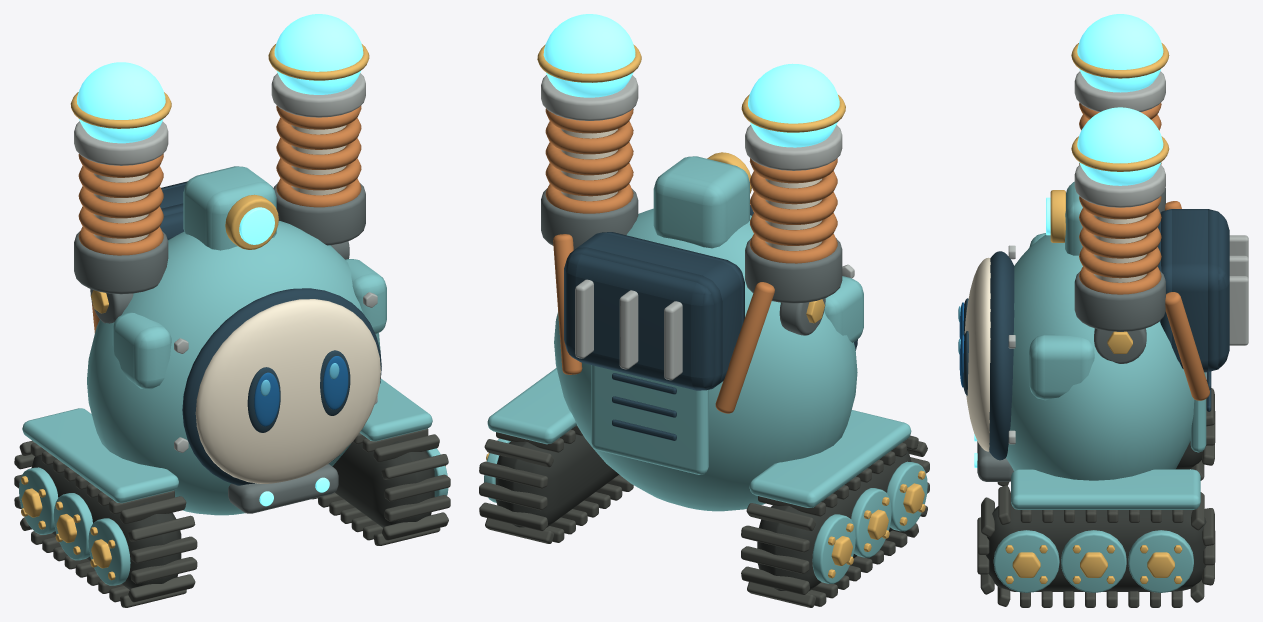
The model's file is robot-volt.glb.
3 views of the same model, side by side, from view 1: azimuth 30°, elevation 25°; view 2: azimuth 150°, elevation 25°; view 3: azimuth 270°, elevation 25° (orthographic). The views are drawn at different scales.
Parts seen in each view (by area): view 1: volt_Volt seafoam enamel, volt_Warm ivory, volt_Copper windings, volt_Electric ceramic, volt_Gunmetal, volt_chassis_Volt seafoam enamel, volt_chassis_Rubber, volt_Midnight blue, volt_Brushed steel, volt_Brass details, wheel_R_0, wheel_R_1 (+12 smaller); view 2: volt_Volt seafoam enamel, volt_Midnight blue, volt_Copper windings, volt_Electric ceramic, volt_chassis_Volt seafoam enamel, volt_Brushed steel, volt_chassis_Rubber, volt_Gunmetal, volt_Brass details, wheel_R_2, wheel_R_1, wheel_R_0 (+11 smaller); view 3: volt_Volt seafoam enamel, volt_Midnight blue, volt_Electric ceramic, volt_Copper windings, volt_Brushed steel, volt_chassis_Volt seafoam enamel, volt_chassis_Rubber, volt_Gunmetal, volt_Warm ivory, volt_Brass details, wheel_L_0, wheel_L_1 (+4 smaller).
Part boxes in pixels (x1,y1,x2,y2): volt_Volt seafoam enamel: (87,166,386,515); volt_Warm ivory: (93,125,380,483); volt_Copper windings: (78,105,361,333); volt_Electric ceramic: (76,14,363,506); volt_Gunmetal: (74,183,365,513); volt_chassis_Volt seafoam enamel: (22,378,432,503); volt_chassis_Rubber: (31,440,434,589); volt_Midnight blue: (160,181,381,485); volt_Brushed steel: (74,73,377,452); volt_Brass details: (70,44,369,313); wheel_R_0: (88,518,130,585); wheel_R_1: (53,493,92,560); volt_Volt seafoam enamel: (554,156,863,511); volt_Midnight blue: (564,205,857,440); volt_Copper windings: (545,108,837,413); volt_Electric ceramic: (543,14,839,147); volt_chassis_Volt seafoam enamel: (487,368,911,507); volt_Brushed steel: (541,75,854,380); volt_chassis_Rubber: (495,434,911,591); volt_Gunmetal: (541,188,842,335); volt_Brass details: (537,44,845,323); wheel_R_2: (812,514,855,583); wheel_R_1: (851,488,891,557); wheel_R_0: (887,461,927,531); volt_Volt seafoam enamel: (1006,181,1206,480); volt_Midnight blue: (963,209,1229,460); volt_Electric ceramic: (974,14,1163,467); volt_Copper windings: (1079,102,1209,400); volt_Brushed steel: (1008,71,1248,444); volt_chassis_Volt seafoam enamel: (1011,469,1200,509); volt_chassis_Rubber: (986,441,1206,591); volt_Gunmetal: (977,188,1165,481); volt_Warm ivory: (964,215,1146,451); volt_Brass details: (1050,43,1169,353); wheel_L_0: (993,530,1059,592); wheel_L_1: (1061,530,1126,592).
Size of the model in its own units: 1.59 by 2.16 by 1.21.
